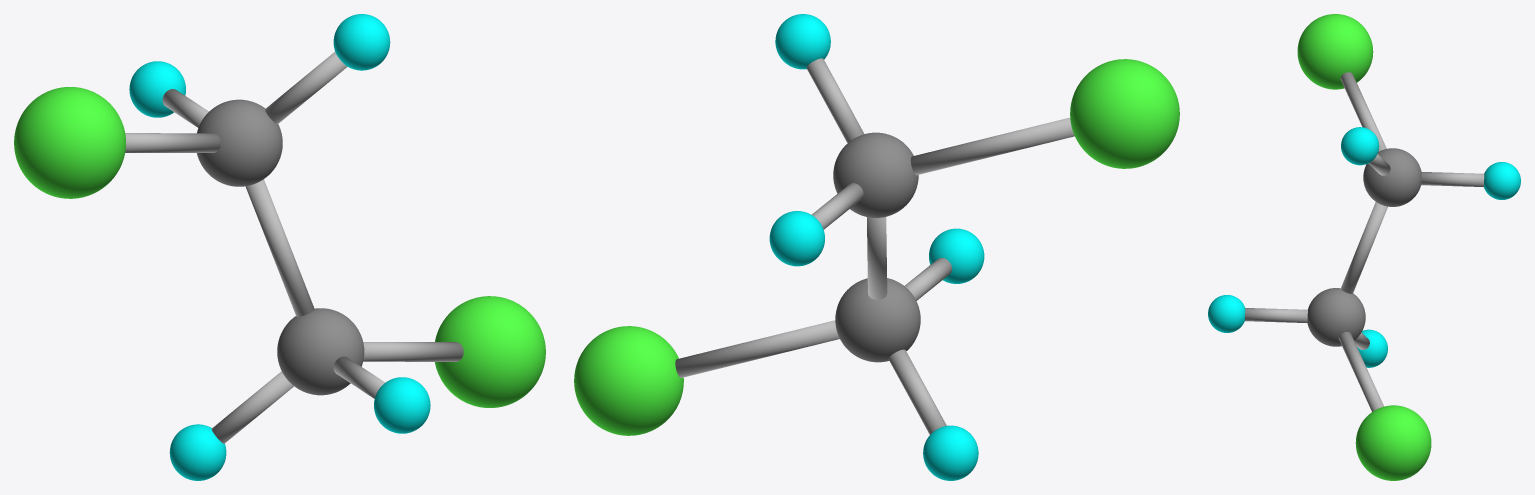
File: 1,2-dichloroethane.glb
3 views of the same model, side by side, from view 1: azimuth 30°, elevation 25°; view 2: azimuth 150°, elevation 25°; view 3: azimuth 270°, elevation 25° (orthographic). The views are drawn at different scales.
Visible parts, largest first — view 1: CMAtom_0; view 2: CMAtom_0; view 3: CMAtom_0.
Boxes of the visible parts, left/top/right/bottom form: CMAtom_0: left=14, top=14, right=545, bottom=480; CMAtom_0: left=574, top=14, right=1179, bottom=480; CMAtom_0: left=1208, top=14, right=1520, bottom=480.
Bounding box in the file's own units: 0.457 × 0.3551 × 0.3276.
